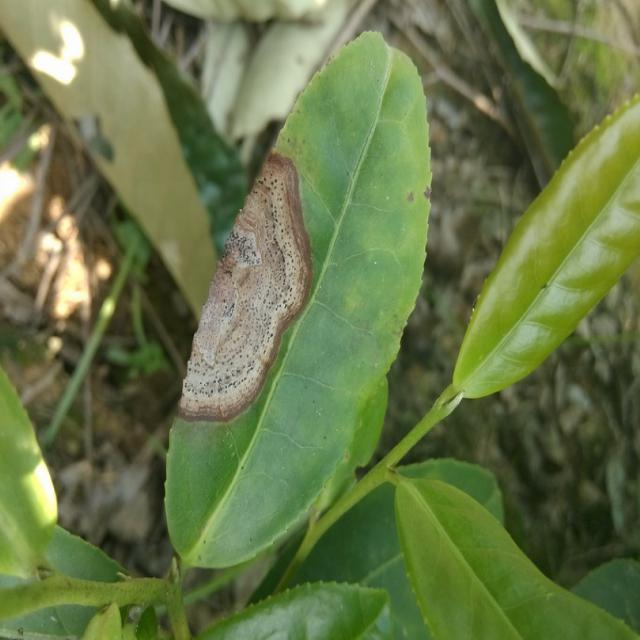Tea cloud leaf blight: (178, 154, 319, 420)
